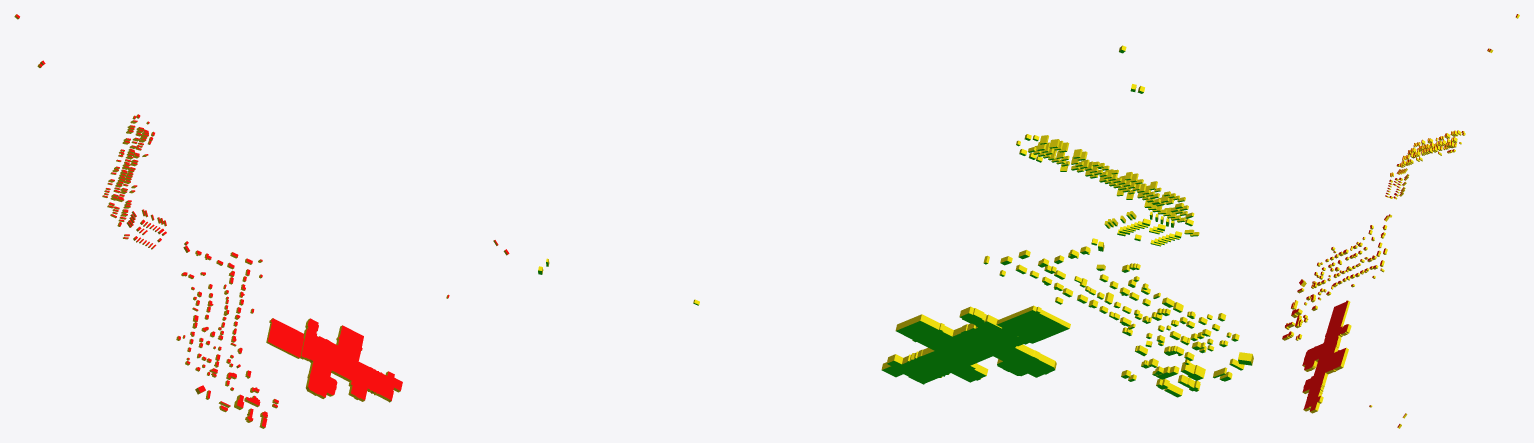
The picture shows the model from 3 angles, left to right: view 1: azimuth 30°, elevation 25°; view 2: azimuth 150°, elevation 25°; view 3: azimuth 270°, elevation 25°; orthographic projection. The views are drawn at different scales.
Parts seen in each view (by area): view 1: mesh; view 2: mesh; view 3: mesh.
Part boxes in pixels (<box>): mesh: <box>14,14,509,428</box>; mesh: <box>538,45,1253,397</box>; mesh: <box>1282,14,1519,428</box>.
Bounding box in the file's own units: 1811 × 1456 × 1056.
